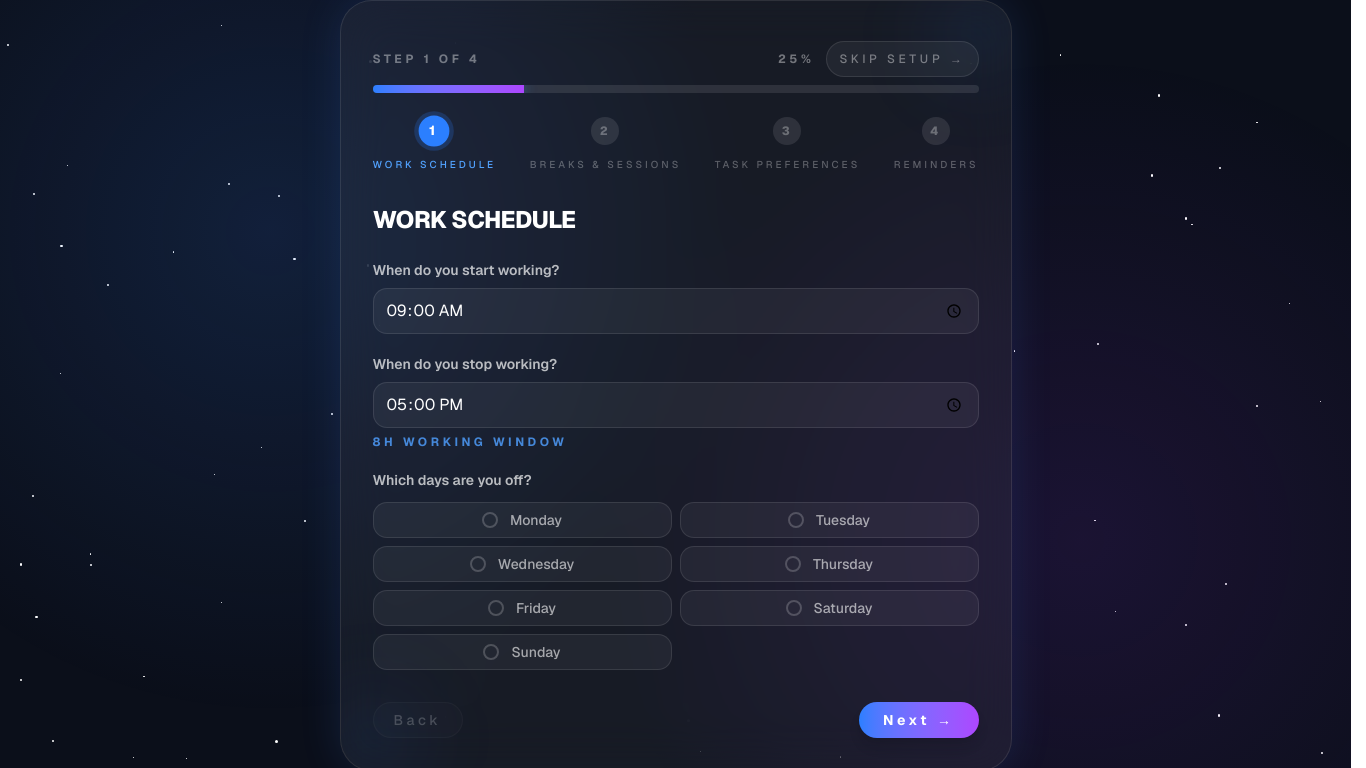
it: Quiz Page › guards handleNext
Step 1. Click the button "Next →" → x=919, y=720, box 859,702 -> 978,738
(page scrolled)
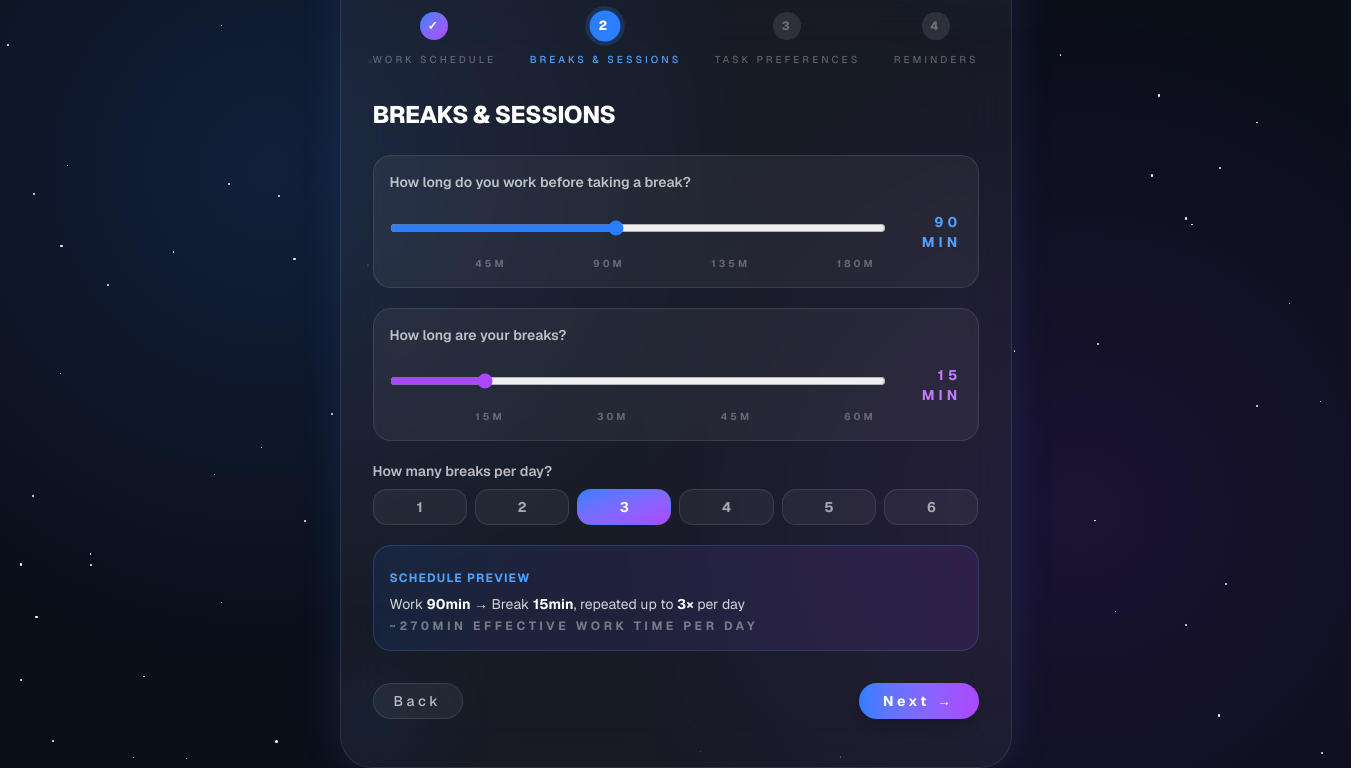
Step 2. Click the button "Next →" → x=919, y=701, box 859,683 -> 978,719
(page scrolled)
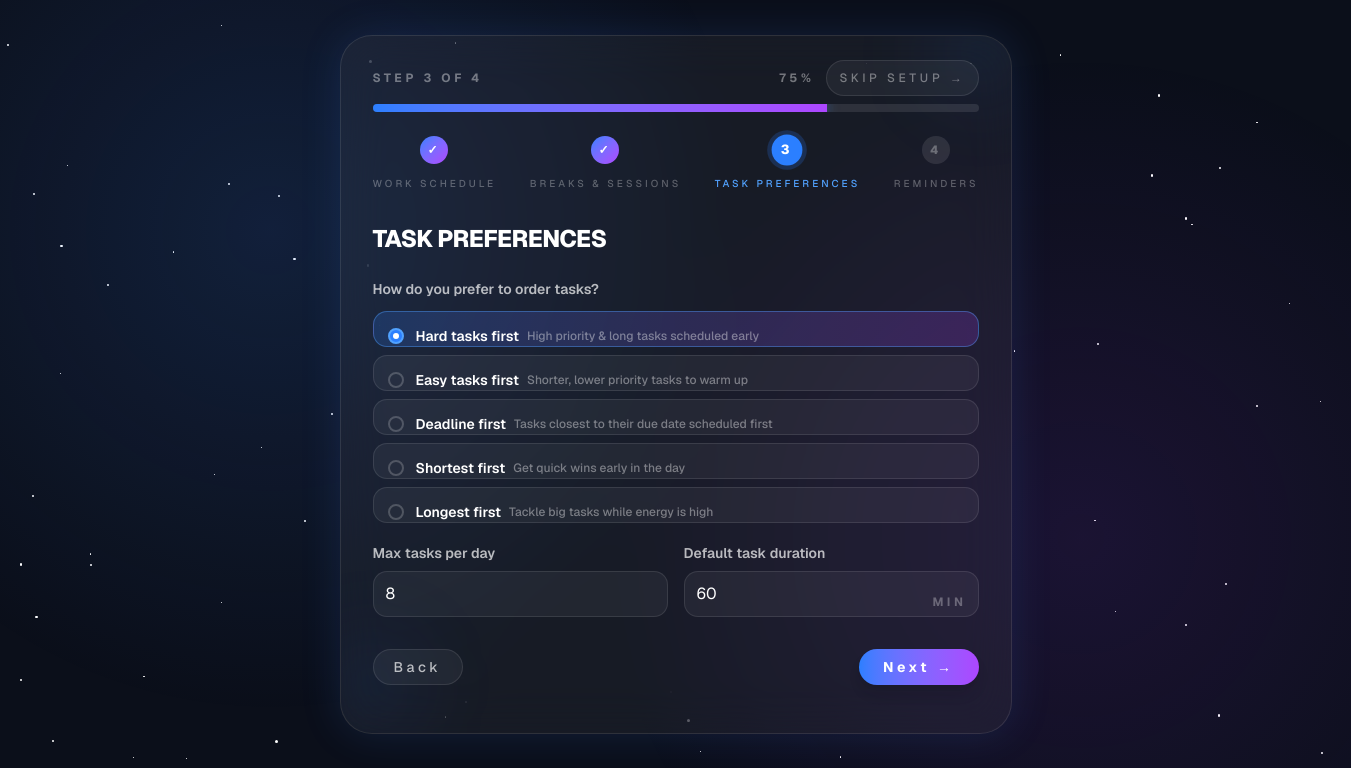
Step 3. Click the button "Next →" → x=919, y=666, box 859,648 -> 978,684
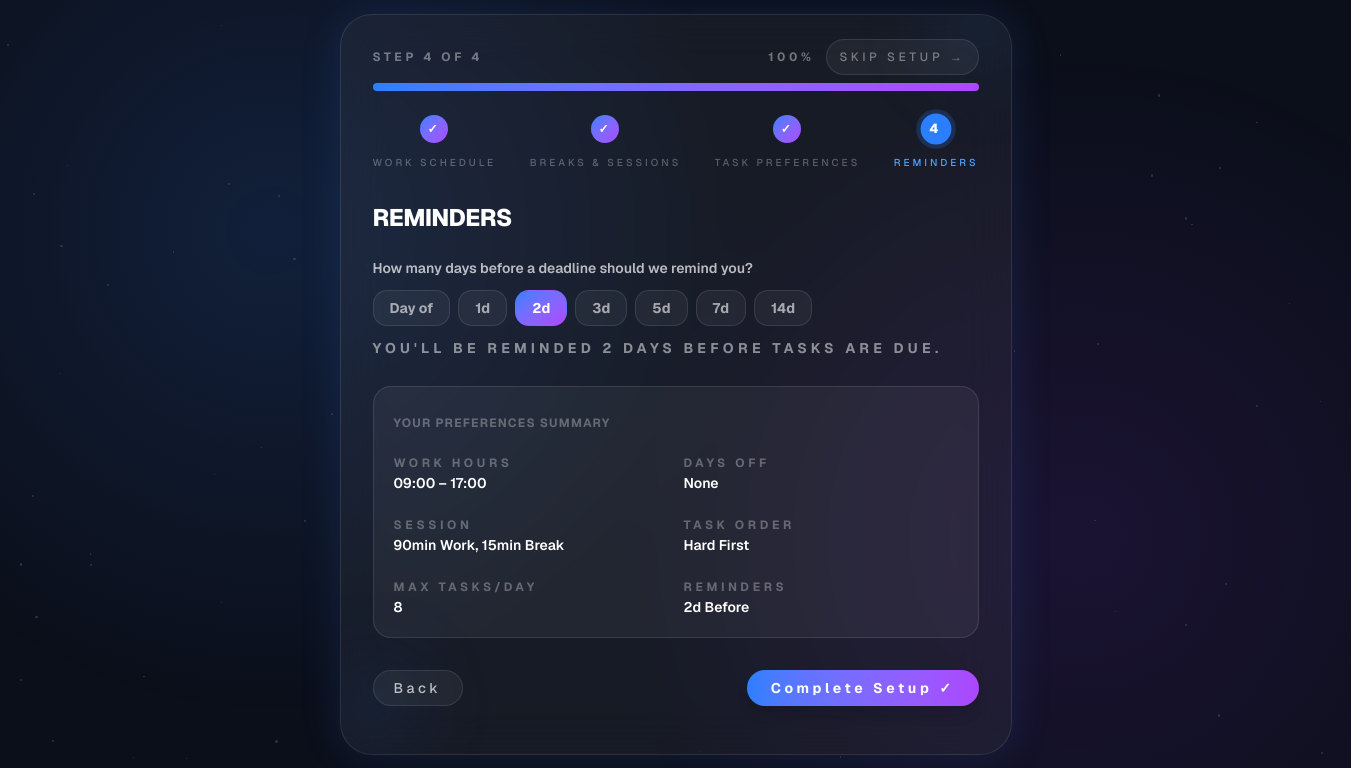
Result: the button "Next" is gone
